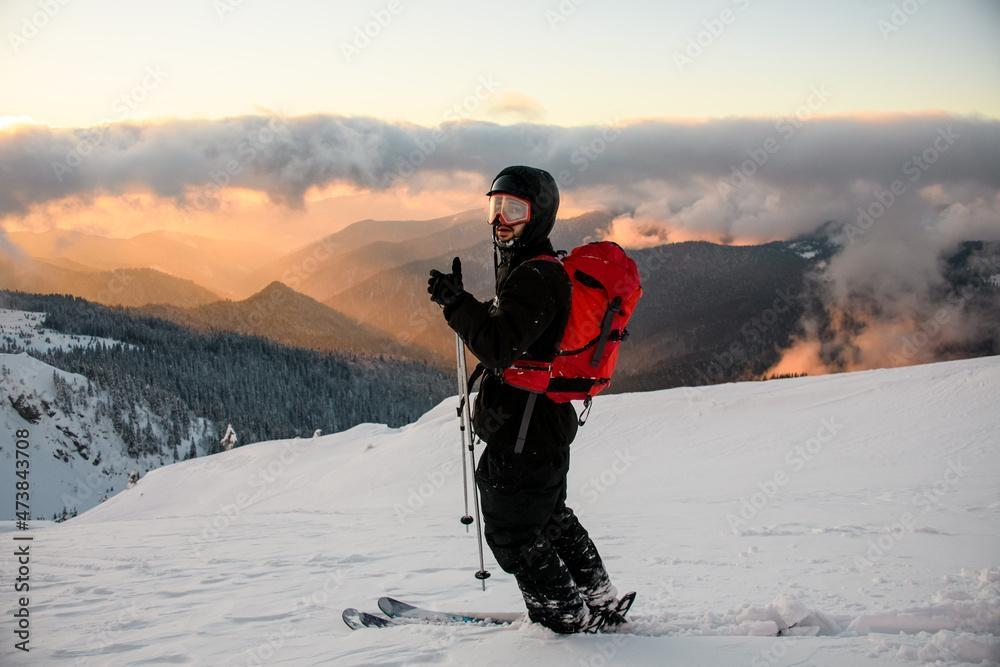Skis: (338, 411, 664, 660)
